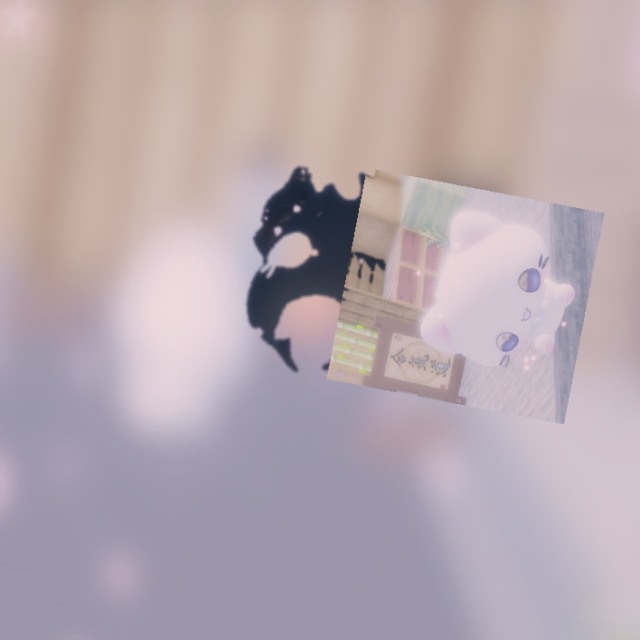urso_branco: (326, 167, 605, 425)
urso_preto: (174, 103, 464, 427)
